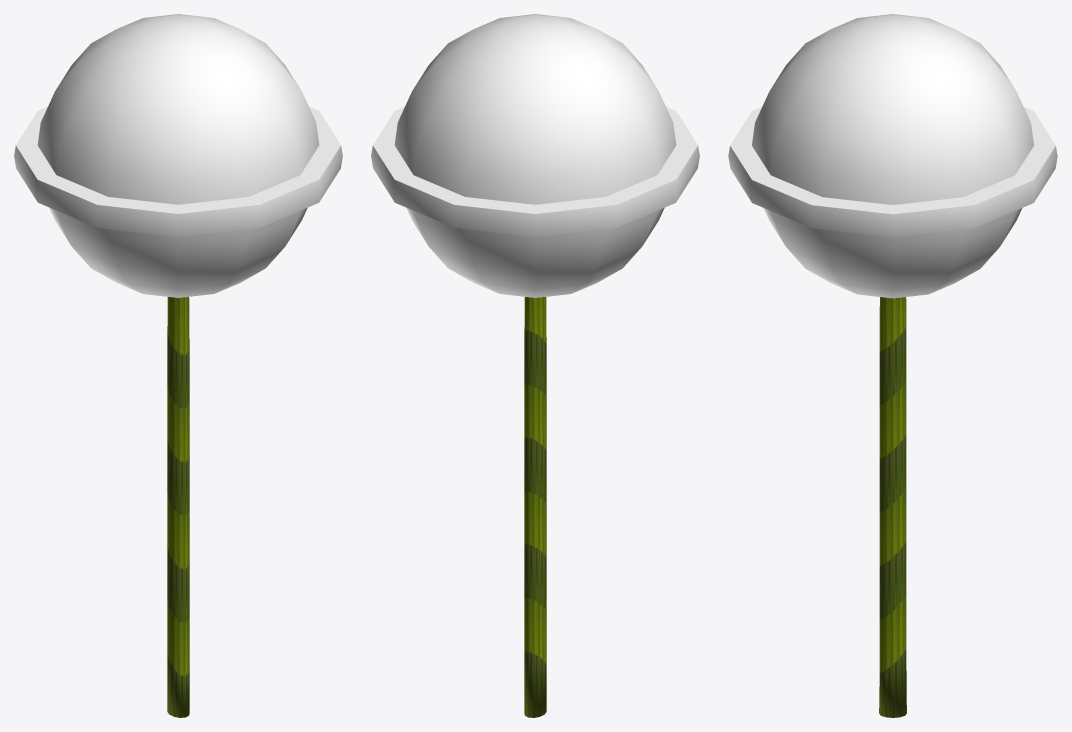
File: OBS0110257.fbx
3 views of the same model, side by side, from view 1: azimuth 30°, elevation 25°; view 2: azimuth 150°, elevation 25°; view 3: azimuth 270°, elevation 25° (orthographic).
Parts seen in each view (by area): view 1: smOBS0110257; view 2: smOBS0110257; view 3: smOBS0110257.
Part boxes in pixels (bbox=[...]): smOBS0110257: bbox=[14, 14, 342, 717]; smOBS0110257: bbox=[371, 14, 699, 717]; smOBS0110257: bbox=[728, 14, 1057, 717].
Bounding box in the file's own units: 72.81 × 168 × 72.81.
